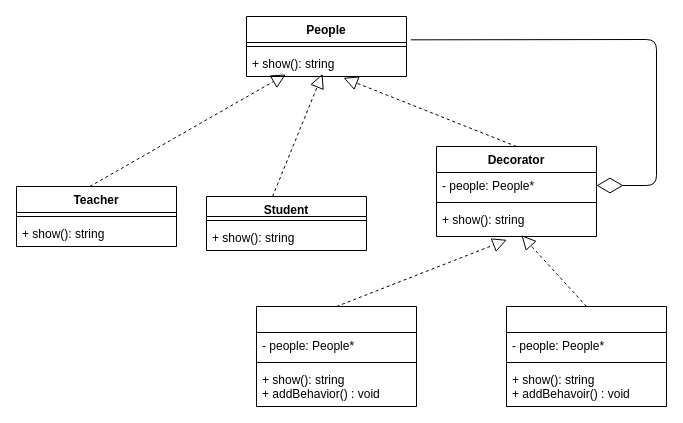
Some shapes in this 683 by 423 pixel diagram are drawn without their labels. The box of each missing label's shape, as (x1, y1, x2, y2) in pixels:
DecoratorHobby: (256, 306, 416, 406)
DecoratorWear: (506, 306, 666, 406)
